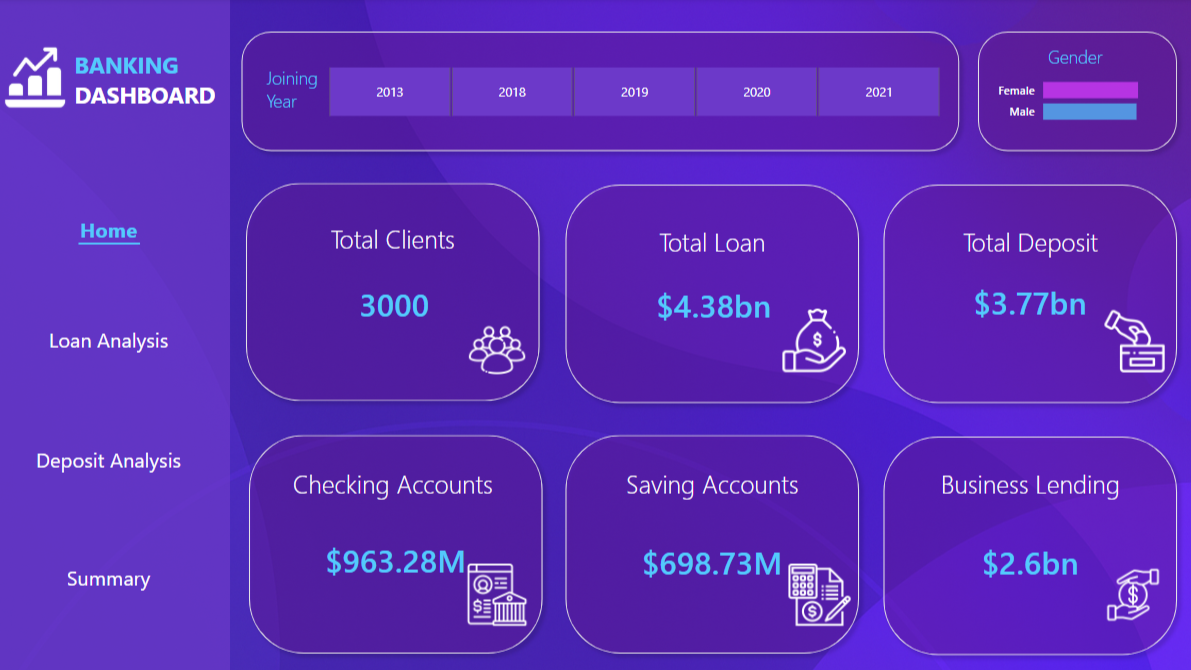

Layout of this report page (visuals, bound fields, positions):
{"tool":"powerbi","page":{"name":"Home","canvas":[1280,720],"ordinal":0},"visuals":[{"type":"shape","box":[0,0,257.7,720.5],"z":0,"group":"g11"},{"type":"shape","box":[266.3,188.5,329.3,249],"z":0,"group":"g6"},{"type":"textbox","box":[0,215.8,257.7,44.5],"z":0},{"type":"textbox","box":[941.6,235.4,329.3,55],"z":0,"group":"g14"},{"type":"textbox","box":[265.1,491.5,329.3,55],"z":0,"group":"g15"},{"type":"shape","box":[260.1,27,779.4,144.7],"z":1000},{"type":"shape","box":[1041.4,27,229,144.7],"z":1000,"group":"g10"},{"type":"group","id":"g1","title":"Group 1","box":[0,35,257.7,98.6],"z":1000,"group":"g11"},{"type":"image","box":[0,35,104,98.6],"z":1000,"group":"g1"},{"type":"card","fields":{"Values":["Banking.Total Deposit"]},"box":[941.6,273.6,329.3,100.2],"z":1000,"group":"g14"},{"type":"card","fields":{"Values":["CountNonNull(Banking.Name)"]},"box":[267.2,276,329.3,100.2],"z":1000,"group":"g12"},{"type":"shape","box":[268.3,454.9,329.3,249.7],"z":1000,"group":"g5"},{"type":"card","fields":{"Values":["Sum(Banking.Checking Accounts)"]},"box":[268.8,547.2,329.3,100.2],"z":1000,"group":"g15"},{"type":"textbox","box":[87.8,49.3,169.8,84.3],"z":2000,"group":"g1"},{"type":"shape","box":[603.7,188.5,329.3,249.7],"z":2000,"group":"g7"},{"type":"image","box":[1173.8,326.1,85.9,76.3],"z":2000,"group":"g14"},{"type":"textbox","box":[0,342.5,257.7,44],"z":2000,"group":"g11"},{"type":"actionButton","box":[63.6,346.8,130.4,35],"z":2000},{"type":"image","box":[497.3,594.9,85.9,76.3],"z":2000,"group":"g15"},{"type":"shape","box":[941.6,189.3,329.3,249.7],"z":3000,"group":"g8"},{"type":"textbox","box":[0,468.7,257.7,44],"z":3000,"group":"g11"},{"type":"actionButton","box":[49.3,477.2,159.1,28.6],"z":3000},{"type":"shape","box":[604.9,454.9,329.3,249.7],"z":4000,"group":"g4"},{"type":"textbox","box":[0,594.9,257.7,44.5],"z":4000,"group":"g11"},{"type":"actionButton","box":[74.8,601.3,106.6,33.4],"z":4000},{"type":"group","id":"g2","title":"Group 15","box":[0,225.9,257.7,57.3],"z":5000,"group":"g11"},{"type":"group","id":"g3","title":"Group 4","box":[941.6,456.5,329.3,249.7],"z":5000},{"type":"shape","box":[941.6,456.5,329.3,249.7],"z":5000,"group":"g3"},{"type":"group","id":"g4","title":"Group 9","box":[604.4,454.9,329.8,249.7],"z":6000},{"type":"barChart","fields":{"Category":["Banking.GenderId"],"Y":["CountNonNull(Banking.Name)"]},"box":[1065.7,55.6,192.5,100.2],"z":7000,"group":"g10"},{"type":"shape","box":[97,238.6,65.2,44.5],"z":7000,"group":"g2"},{"type":"group","id":"g5","title":"Group 10","box":[265.1,454.9,333,249.7],"z":7000},{"type":"textbox","box":[1047.8,44.5,211.6,60.4],"z":8000,"group":"g10"},{"type":"group","id":"g6","title":"Group 11","box":[265.8,188.5,330.6,249],"z":8000},{"type":"textbox","box":[290.3,66.8,93.8,89.1],"z":9000,"group":"g9"},{"type":"group","id":"g7","title":"Group 12","box":[603.7,188.5,331.6,249.7],"z":9000},{"type":"slicer","fields":{"Values":["Banking.Year of Joining"]},"box":[336.4,67.6,696.7,65.6],"z":10000,"group":"g9"},{"type":"group","id":"g8","title":"Group 13","box":[941.6,189.3,329.3,249.7],"z":10000},{"type":"group","id":"g9","title":"Group 3","box":[290.3,66.8,742.8,89.1],"z":11000},{"type":"group","id":"g10","title":"Group 14","box":[1041.4,27,229,144.7],"z":12000},{"type":"group","id":"g11","title":"Group 16","box":[0,0,257.7,720.5],"z":13000},{"type":"actionButton","box":[63.6,346.8,130.4,39.8],"z":14000},{"type":"textbox","box":[265.8,232.9,329.3,55.5],"z":15000,"group":"g12"},{"type":"actionButton","box":[52.5,474,155.9,39.8],"z":15000},{"type":"textbox","box":[604.2,234.6,329.3,55],"z":16000,"group":"g13"},{"type":"actionButton","box":[74.8,598.1,106.6,39.8],"z":16000},{"type":"textbox","box":[0,225.9,257.7,44.5],"z":17001,"group":"g2"},{"type":"card","fields":{"Values":["Banking.Total Loan"]},"box":[606,276.8,329.3,100.2],"z":19000,"group":"g13"},{"type":"textbox","box":[604.9,491.5,329.3,55],"z":19000,"group":"g16"},{"type":"textbox","box":[941.6,491.5,329.3,55],"z":20000,"group":"g3"},{"type":"card","fields":{"Values":["Sum(Banking.Saving Accounts)"]},"box":[604.4,548.8,329.3,100.2],"z":20000,"group":"g16"},{"type":"card","fields":{"Values":["Sum(Banking.Business Lending)"]},"box":[941.6,548.8,329.3,100.2],"z":21000,"group":"g3"},{"type":"image","box":[833.2,323.7,87.5,77.9],"z":22000,"group":"g13"},{"type":"image","box":[840.3,594.9,85.9,76.3],"z":25000,"group":"g16"},{"type":"image","box":[498,336,85.9,76.1],"z":26000,"group":"g12"},{"type":"group","id":"g12","title":"Group 2","box":[265.8,232.9,330.6,179.2],"z":26001,"group":"g6"},{"type":"group","id":"g13","title":"Group 5","box":[604.2,234.6,331,167],"z":26003,"group":"g7"},{"type":"group","id":"g14","title":"Group 6","box":[941.6,235.4,329.3,167],"z":26005,"group":"g8"},{"type":"group","id":"g15","title":"Group 7","box":[265.1,491.5,333,179.7],"z":26007,"group":"g5"},{"type":"group","id":"g16","title":"Group 8","box":[604.4,491.5,329.8,179.7],"z":26009,"group":"g4"},{"type":"image","box":[1172.2,594.9,85.9,76.3],"z":27000,"group":"g3"}]}

Visuals, with their boxes in screenshot pixels (x1, y1, x2, y2), scaled from the page's 1280x720 canvas onto the 1191x670 screenshot:
shape: (left=0, top=0, right=240, bottom=669)
shape: (left=248, top=175, right=554, bottom=407)
textbox: (left=0, top=201, right=240, bottom=242)
textbox: (left=876, top=219, right=1183, bottom=270)
textbox: (left=247, top=457, right=553, bottom=509)
shape: (left=242, top=25, right=967, bottom=160)
shape: (left=969, top=25, right=1182, bottom=160)
"Group 1" group: (left=0, top=33, right=240, bottom=124)
image: (left=0, top=33, right=97, bottom=124)
card - Banking.Total Deposit: (left=876, top=255, right=1183, bottom=348)
card - CountNonNull(Banking.Name): (left=249, top=257, right=555, bottom=350)
shape: (left=250, top=423, right=556, bottom=656)
card - Sum(Banking.Checking Accounts): (left=250, top=509, right=557, bottom=602)
textbox: (left=82, top=46, right=240, bottom=124)
shape: (left=562, top=175, right=868, bottom=408)
image: (left=1092, top=303, right=1172, bottom=374)
textbox: (left=0, top=319, right=240, bottom=360)
actionButton: (left=59, top=323, right=181, bottom=355)
image: (left=463, top=554, right=543, bottom=625)
shape: (left=876, top=176, right=1183, bottom=409)
textbox: (left=0, top=436, right=240, bottom=477)
actionButton: (left=46, top=444, right=194, bottom=471)
shape: (left=563, top=423, right=869, bottom=656)
textbox: (left=0, top=554, right=240, bottom=595)
actionButton: (left=70, top=560, right=169, bottom=591)
"Group 15" group: (left=0, top=210, right=240, bottom=264)
"Group 4" group: (left=876, top=425, right=1183, bottom=657)
shape: (left=876, top=425, right=1183, bottom=657)
"Group 9" group: (left=562, top=423, right=869, bottom=656)
barChart - Banking.GenderId x CountNonNull(Banking.Name): (left=992, top=52, right=1171, bottom=145)
shape: (left=90, top=222, right=151, bottom=263)
"Group 10" group: (left=247, top=423, right=557, bottom=656)
textbox: (left=975, top=41, right=1172, bottom=98)
"Group 11" group: (left=247, top=175, right=555, bottom=407)
textbox: (left=270, top=62, right=357, bottom=145)
"Group 12" group: (left=562, top=175, right=870, bottom=408)
slicer - Banking.Year of Joining: (left=313, top=63, right=961, bottom=124)
"Group 13" group: (left=876, top=176, right=1183, bottom=409)
"Group 3" group: (left=270, top=62, right=961, bottom=145)
"Group 14" group: (left=969, top=25, right=1182, bottom=160)
"Group 16" group: (left=0, top=0, right=240, bottom=669)
actionButton: (left=59, top=323, right=181, bottom=360)
textbox: (left=247, top=217, right=554, bottom=268)
actionButton: (left=49, top=441, right=194, bottom=478)
textbox: (left=562, top=218, right=869, bottom=269)
actionButton: (left=70, top=557, right=169, bottom=594)
textbox: (left=0, top=210, right=240, bottom=252)
card - Banking.Total Loan: (left=564, top=258, right=870, bottom=351)
textbox: (left=563, top=457, right=869, bottom=509)
textbox: (left=876, top=457, right=1183, bottom=509)
card - Sum(Banking.Saving Accounts): (left=562, top=511, right=869, bottom=604)
card - Sum(Banking.Business Lending): (left=876, top=511, right=1183, bottom=604)
image: (left=775, top=301, right=857, bottom=374)
image: (left=782, top=554, right=862, bottom=625)
image: (left=463, top=313, right=543, bottom=383)
"Group 2" group: (left=247, top=217, right=555, bottom=383)
"Group 5" group: (left=562, top=218, right=870, bottom=374)
"Group 6" group: (left=876, top=219, right=1183, bottom=374)
"Group 7" group: (left=247, top=457, right=557, bottom=625)
"Group 8" group: (left=562, top=457, right=869, bottom=625)
image: (left=1091, top=554, right=1171, bottom=625)
